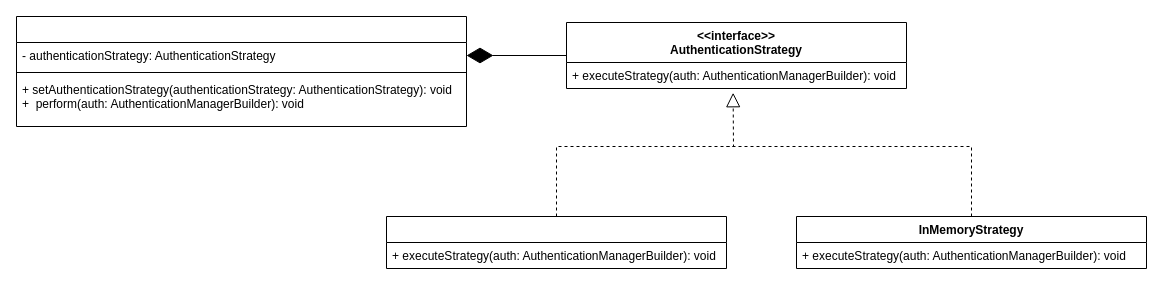
Image size: 1163x285. Some labels were removed from this diagram. The shapes that lost their labels are listed below. From the top down, each one's box as (x1, y1, x2, y2) in pixels, then its label:
(16, 16, 466, 126): Context
(386, 216, 726, 268): MongoDBStrategy
